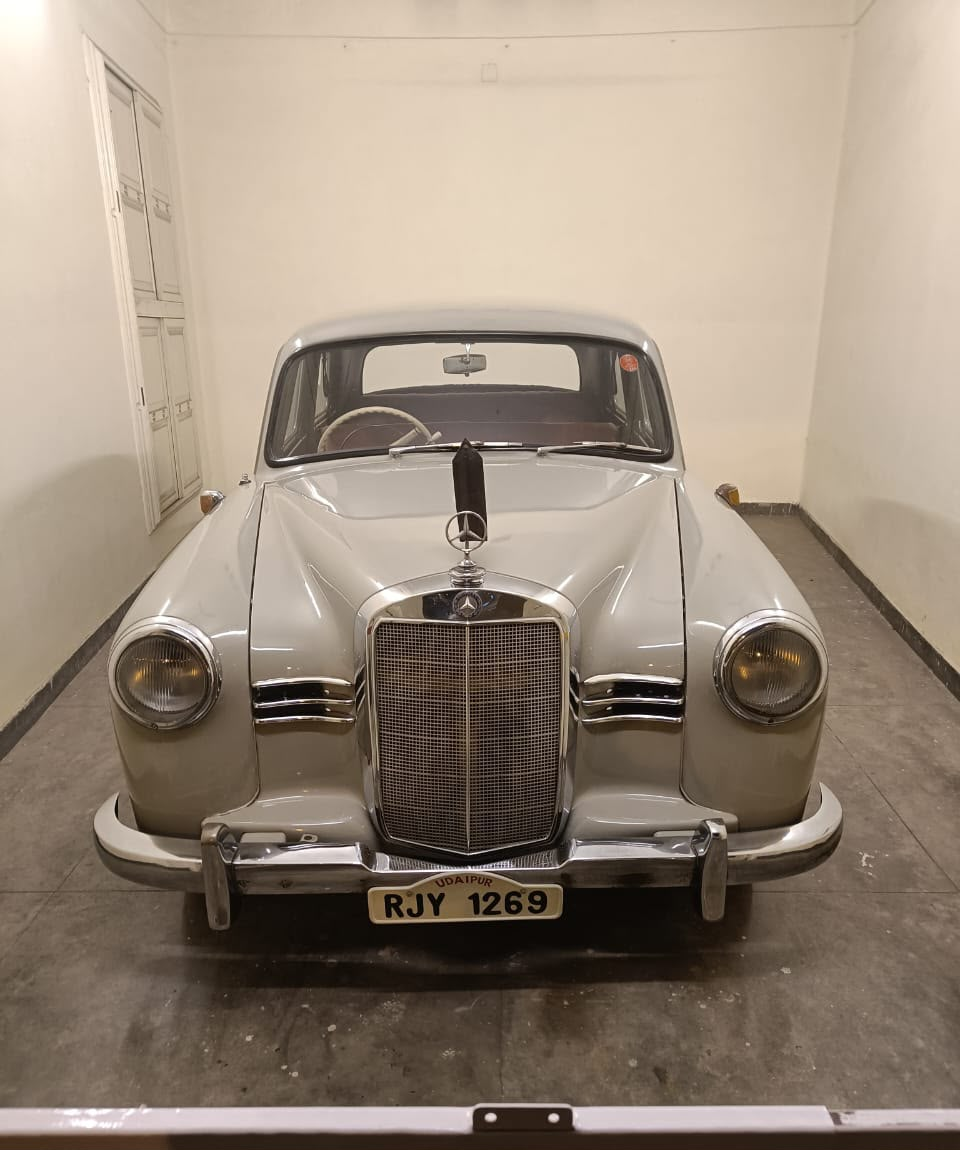vehicle: (366, 877, 563, 923)
